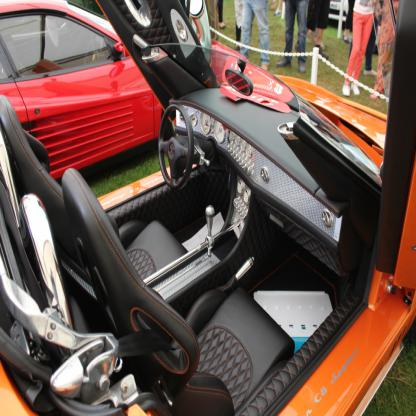Car: (37, 4, 401, 416)
